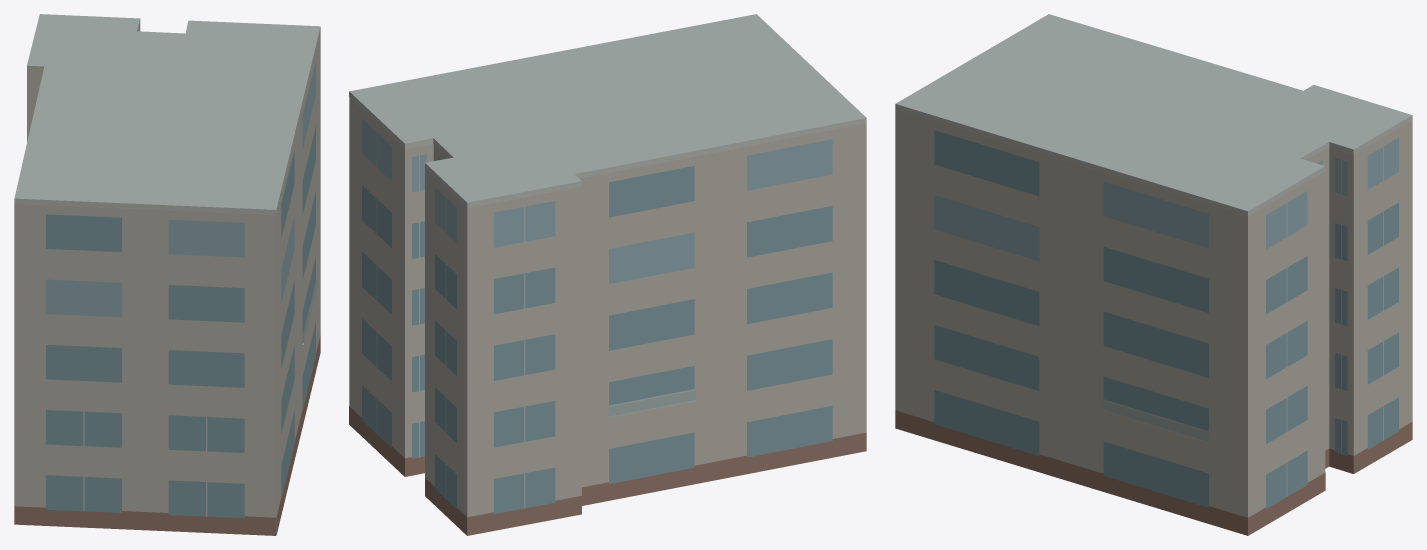
File: survey-upis-32721438.glb
3 views of the same model, side by side, from view 1: azimuth 30°, elevation 25°; view 2: azimuth 150°, elevation 25°; view 3: azimuth 270°, elevation 25° (orthographic). The views are drawn at different scales.
Visible parts, largest first — view 1: survey-upis-32721438.tmp; view 2: survey-upis-32721438.tmp; view 3: survey-upis-32721438.tmp.
Boxes of the visible parts, <box> form: survey-upis-32721438.tmp: <box>14,14,320,535</box>; survey-upis-32721438.tmp: <box>349,14,866,535</box>; survey-upis-32721438.tmp: <box>895,14,1412,535</box>.
Bounding box in the file's own units: 19.37 × 14.85 × 21.46.
